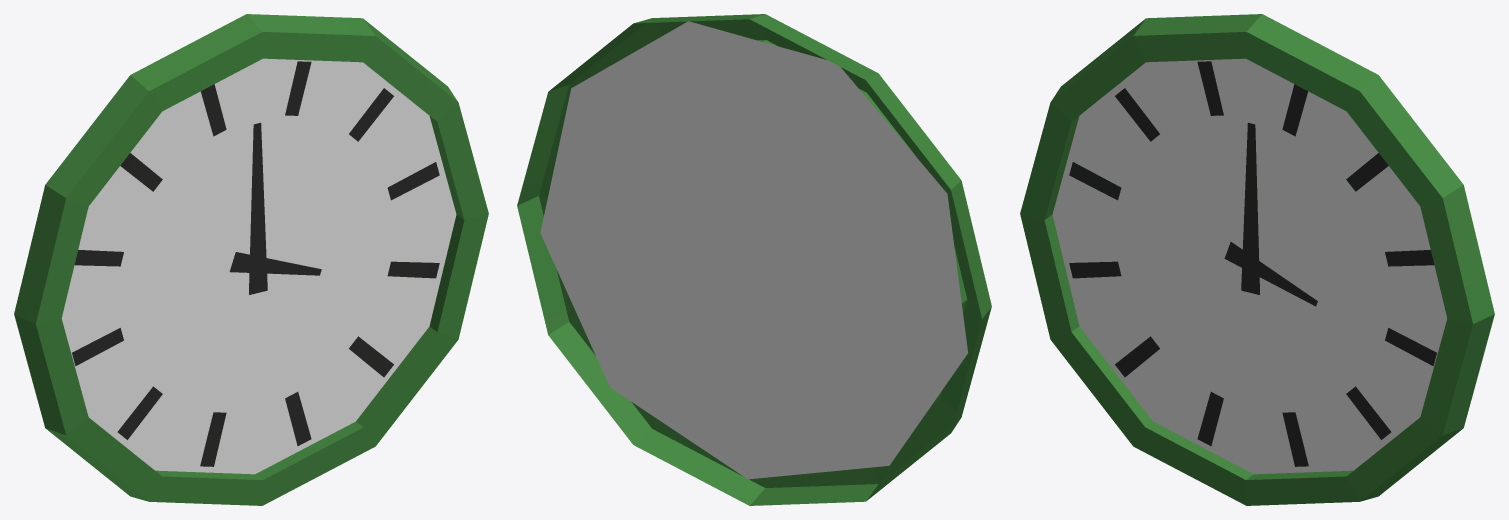
Rendered from clock.fbx.
3 renders of one model, left to right at view 1: azimuth 30°, elevation 25°; view 2: azimuth 150°, elevation 25°; view 3: azimuth 330°, elevation 25°, orthographic.
Parts seen in each view (by area): view 1: clock; view 2: clock; view 3: clock.
Part boxes in pixels (box(x1,y1,x2,y2)): clock: box(14, 14, 488, 505); clock: box(517, 14, 991, 505); clock: box(1020, 14, 1494, 505).
Bounding box in the file's own units: 63.35 × 63.35 × 3.87.
